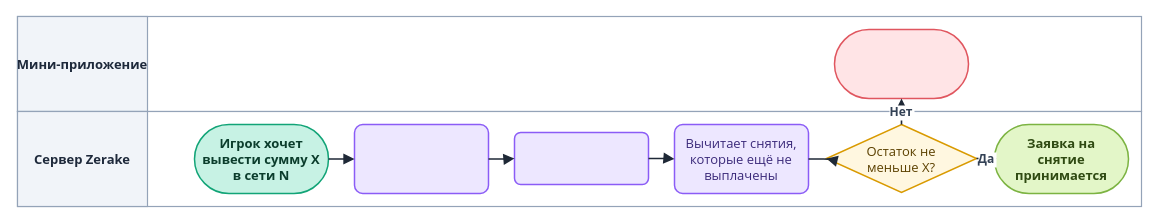
This 1158x223 diagram has some shape labels left out. The shapes that lost their labels are listed below. From the top down, each one's box as (x1, y1, x2, y2) in pixels, then its label:
(833, 28, 969, 99): Предлагает другую сеть или сумму
(353, 123, 489, 194): Сервер считает деньги на всех адресах клуба
(513, 131, 649, 185): Вычитает комиссии сети на переводы
